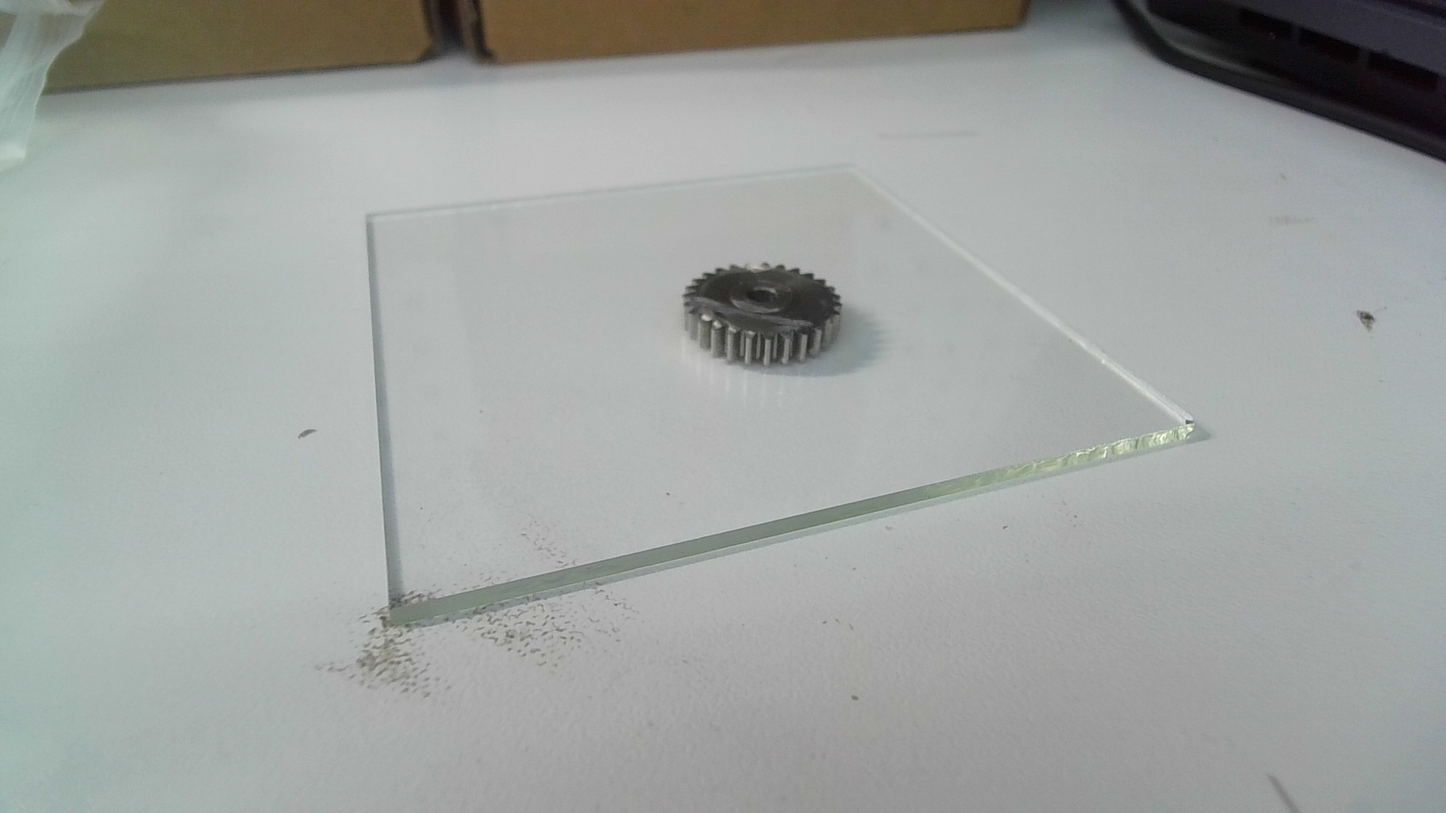gear: (677, 259, 846, 371)
